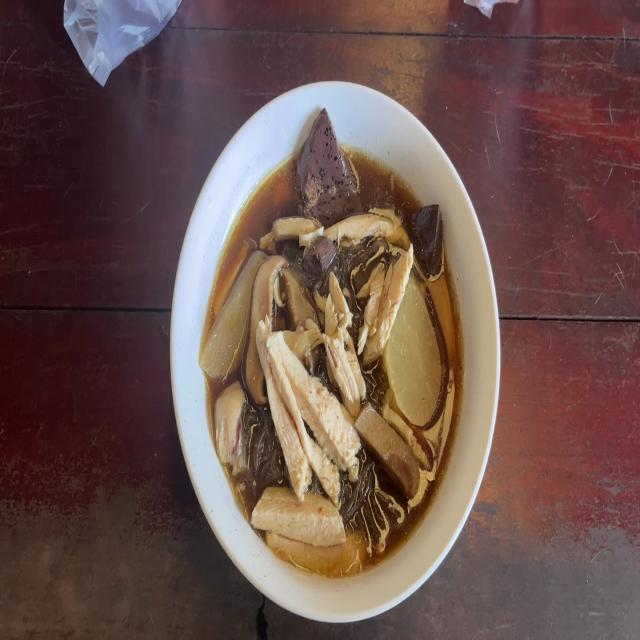noodle: (298, 113, 355, 211), (414, 206, 444, 276), (304, 234, 333, 266)
